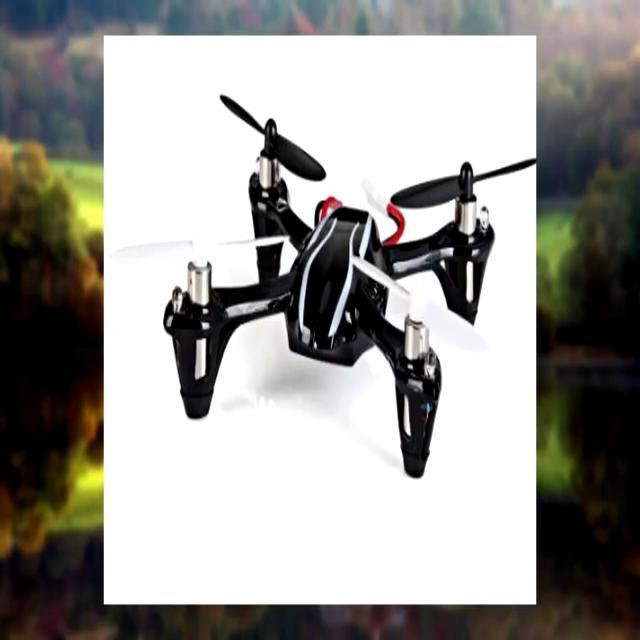Drons: (100, 86, 538, 482)
